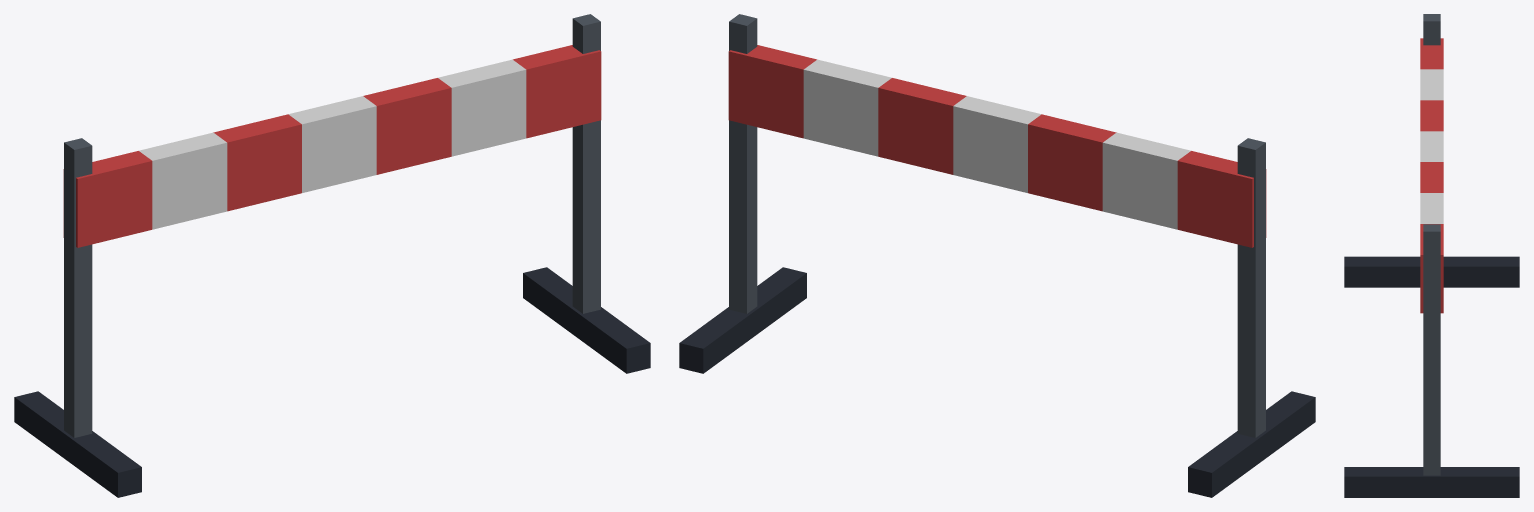
The model's file is broken_barrier.gltf.
3 views of the same model, side by side, from view 1: azimuth 30°, elevation 25°; view 2: azimuth 150°, elevation 25°; view 3: azimuth 270°, elevation 25° (orthographic). The views are drawn at different scales.
Parts seen in each view (by area): view 1: broken_barrier; view 2: broken_barrier; view 3: broken_barrier.
Part boxes in pixels (x1,y1,x2,y2): broken_barrier: (14, 14, 650, 497); broken_barrier: (679, 14, 1315, 497); broken_barrier: (1344, 14, 1519, 497).
Bounding box in the file's own units: 1.78 × 1 × 0.6.
